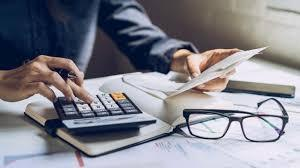Calculator: (49, 86, 163, 139)
